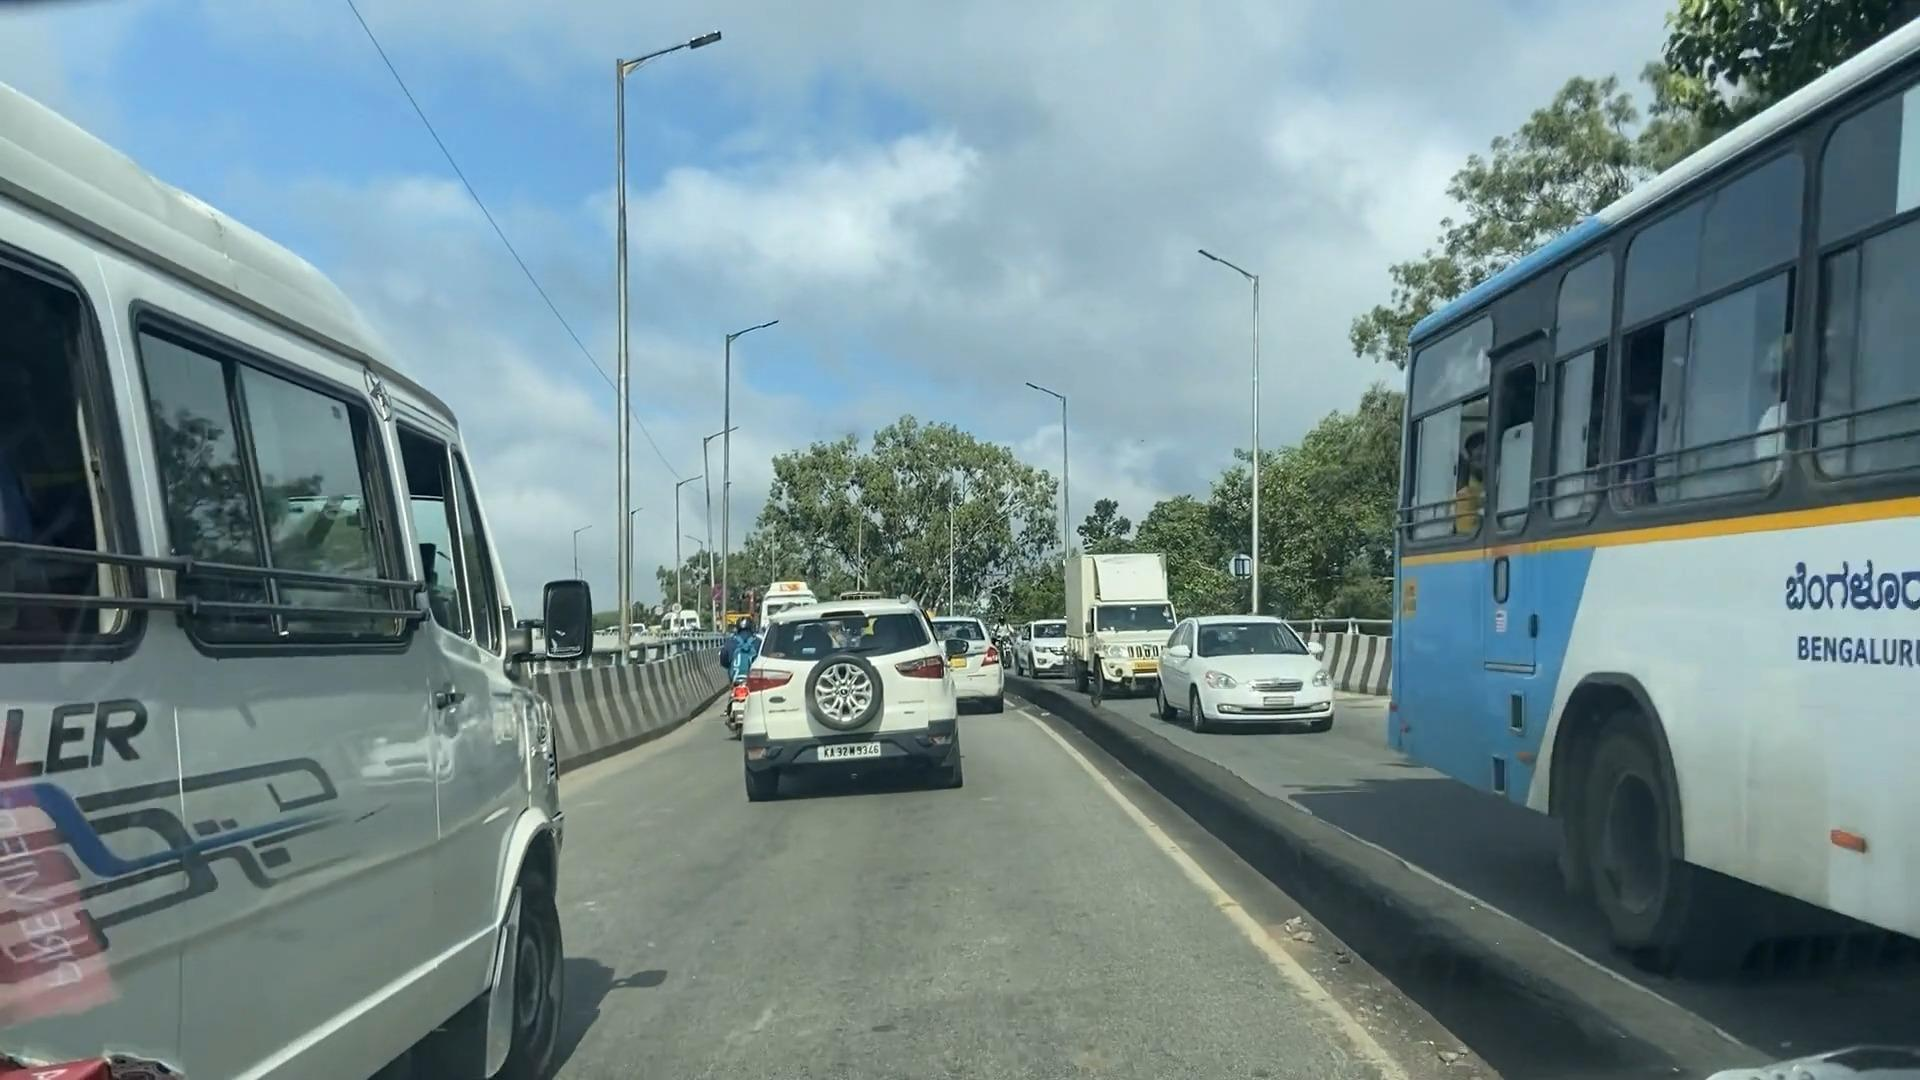LMV: (742, 607, 961, 774)
